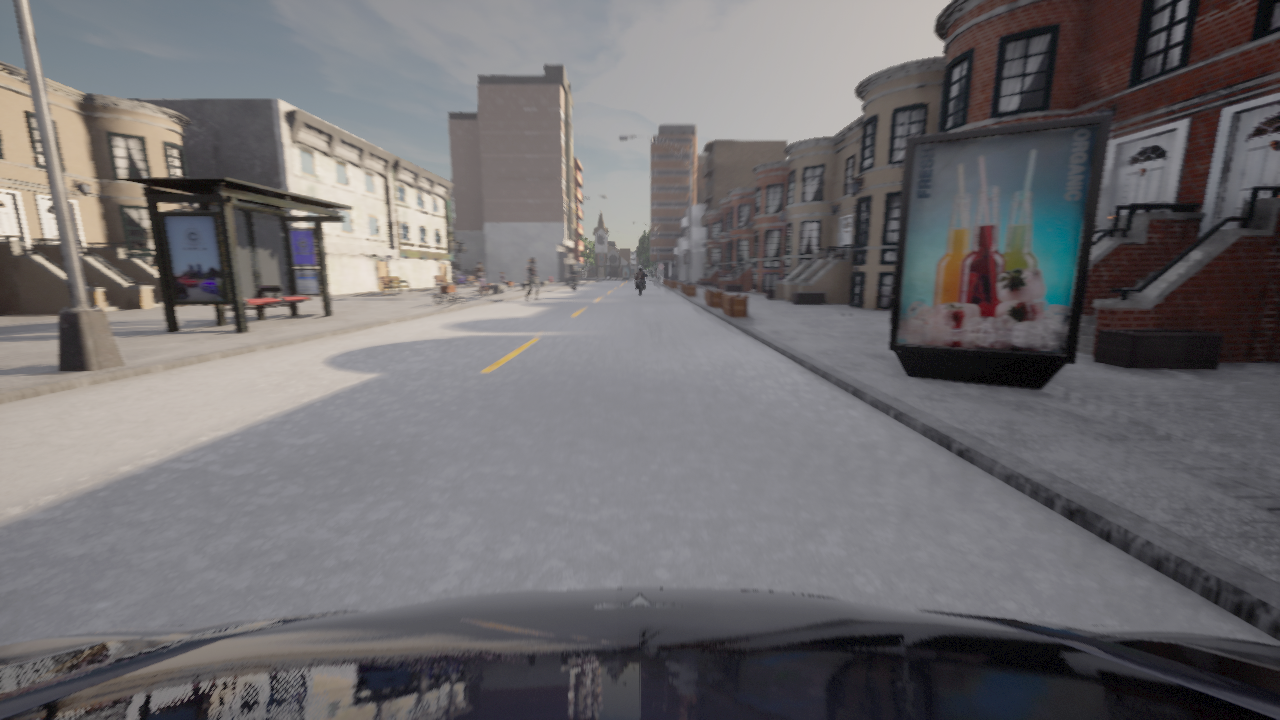cyclist: (0, 588, 1279, 719), (451, 269, 468, 284), (454, 270, 476, 280), (636, 275, 646, 294), (567, 273, 577, 292), (451, 273, 459, 284)
pedestrian: (525, 258, 540, 301), (524, 258, 537, 299), (474, 261, 483, 292), (480, 274, 487, 297), (499, 272, 505, 284)
